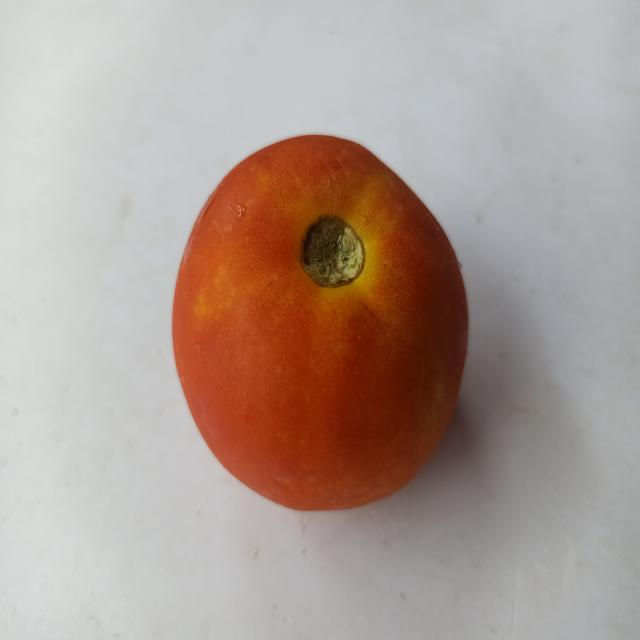Tomato: (141, 112, 542, 552)
